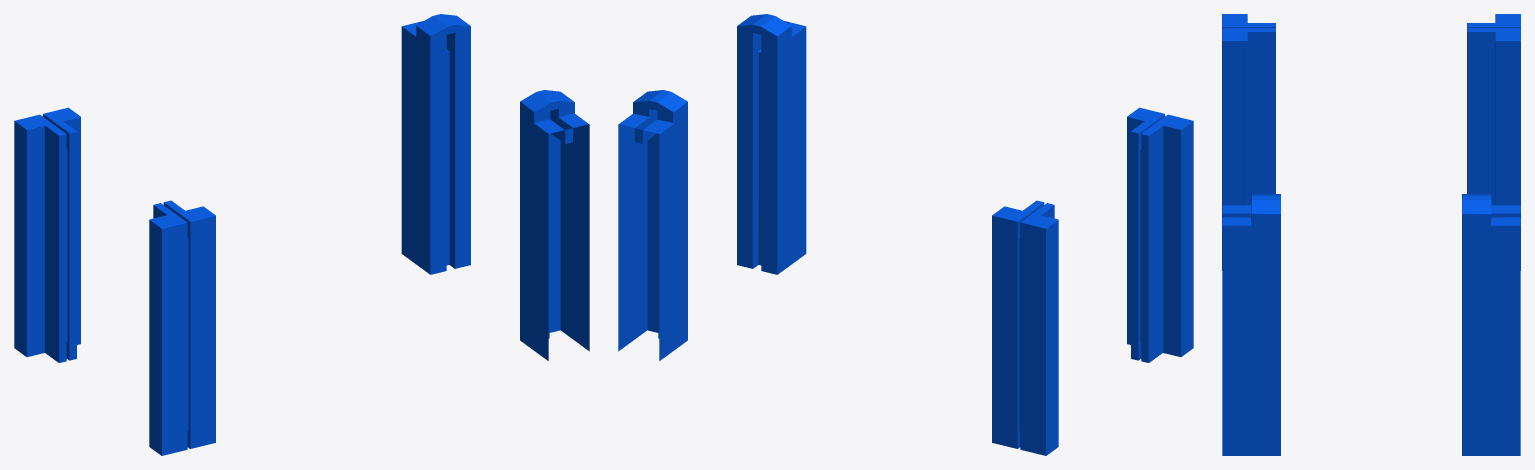
Rendered from Cargo_System_Pilars.fbx.
3 renders of one model, left to right at view 1: azimuth 30°, elevation 25°; view 2: azimuth 150°, elevation 25°; view 3: azimuth 270°, elevation 25°, orthographic.
Parts seen in each view (by area): view 1: Vagon_02.002, Elevator_Cargo_Columns; view 2: Vagon_02.002, Elevator_Cargo_Columns; view 3: Vagon_02.002, Elevator_Cargo_Columns.
Boxes of the visible parts, <box> form: Vagon_02.002: <box>401,14,589,360</box>; Elevator_Cargo_Columns: <box>14,107,215,455</box>; Vagon_02.002: <box>618,14,806,360</box>; Elevator_Cargo_Columns: <box>992,107,1193,455</box>; Vagon_02.002: <box>1222,194,1520,455</box>; Elevator_Cargo_Columns: <box>1222,14,1520,270</box>.
Size of the model in its own units: 1575 by 860 by 940.
